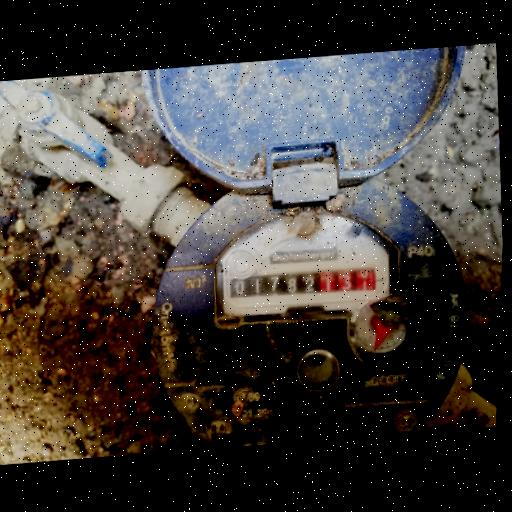0: (230, 277, 252, 298)
1: (355, 268, 376, 292), (320, 270, 339, 293), (249, 275, 267, 297)
2: (300, 272, 321, 294)
3: (337, 269, 356, 292)
7: (265, 274, 284, 296)
8: (281, 272, 302, 295)
border_water_meter_number: (226, 263, 386, 309)
